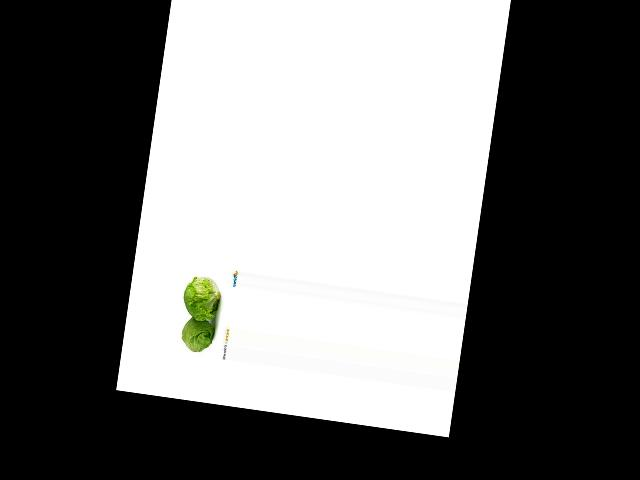lettuce: (179, 306, 224, 356)
